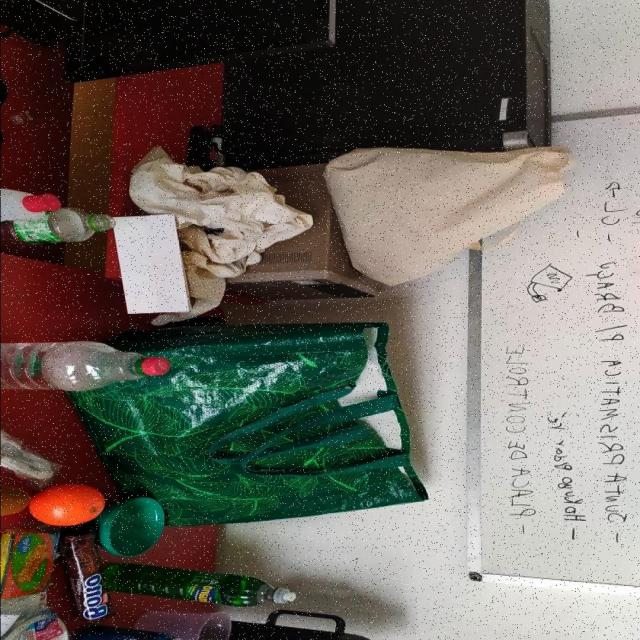Bag: (56, 321, 428, 525), (324, 144, 578, 286)
Bowl: (96, 495, 164, 556)
Cleaner: (102, 564, 298, 608)
Cookies: (62, 530, 118, 621)
Kiwi: (0, 488, 30, 516)
Mug: (125, 611, 239, 640)
Orange: (29, 481, 107, 526)
Plate: (0, 612, 74, 640)
Sponge: (0, 528, 61, 597)
Tonic: (74, 625, 189, 640)
